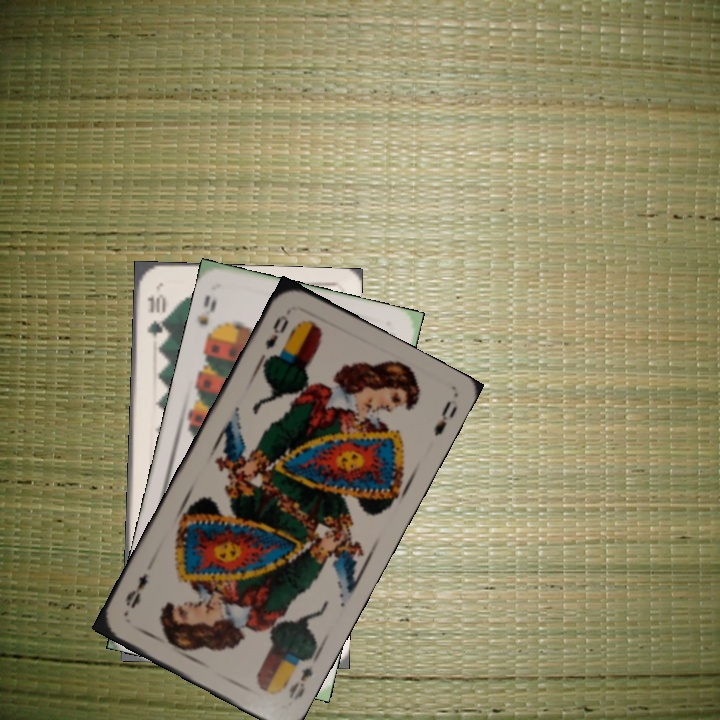EO: (279, 651, 320, 703), (261, 311, 291, 352)
G10: (143, 290, 167, 341)
S9: (194, 291, 221, 346)
